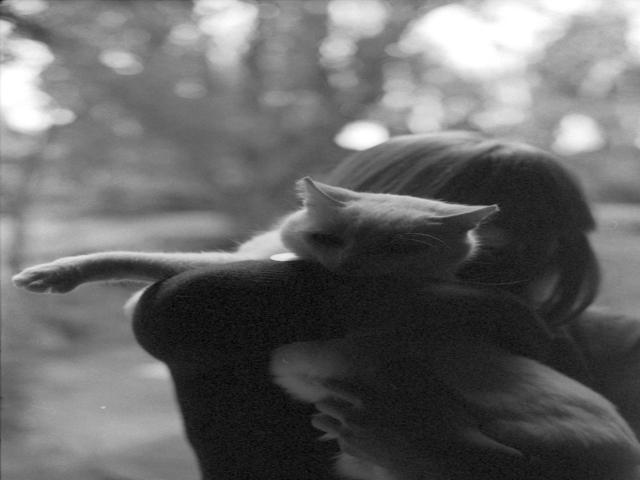Cat: (9, 176, 639, 480)
